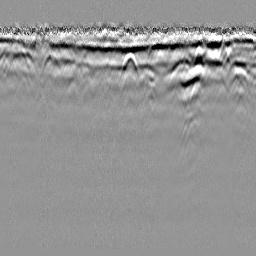cavity: (119, 52, 141, 82)
